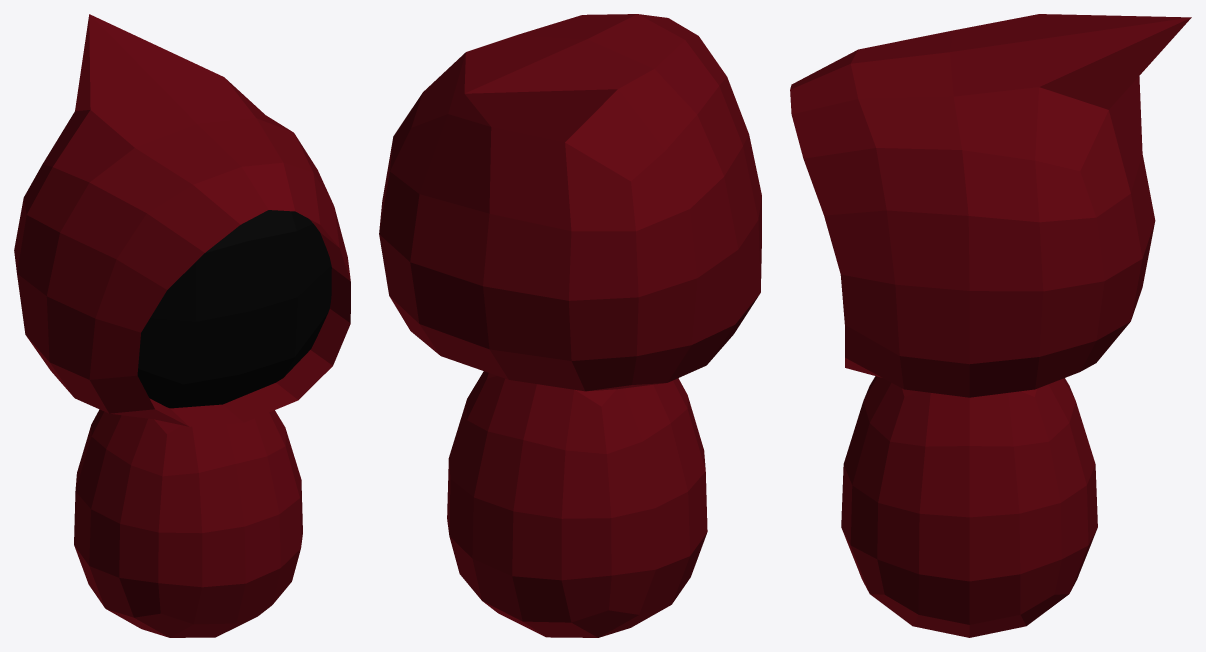
The model's file is player.fbx.
3 views of the same model, side by side, from view 1: azimuth 30°, elevation 25°; view 2: azimuth 150°, elevation 25°; view 3: azimuth 270°, elevation 25° (orthographic). The views are drawn at different scales.
Visible parts, largest first — view 1: player_head, player_body; view 2: player_head, player_body; view 3: player_head, player_body.
Boxes of the visible parts, x1=… form: player_head: x1=14, y1=14, x2=350, y2=426; player_body: x1=74, y1=409, x2=302, y2=637; player_head: x1=379, y1=14, x2=761, y2=391; player_body: x1=447, y1=371, x2=707, y2=637; player_head: x1=790, y1=14, x2=1191, y2=397; player_body: x1=841, y1=376, x2=1097, y2=637.
Size of the model in its own units: 166 by 302 by 182.
